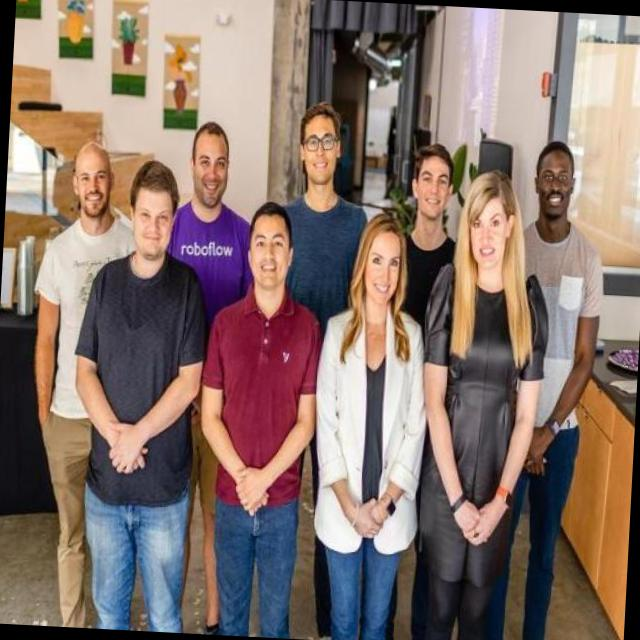bareface: (126, 165, 176, 262), (466, 179, 509, 269), (296, 110, 344, 190), (363, 217, 404, 310), (70, 139, 112, 227), (248, 210, 294, 288), (534, 140, 573, 228), (415, 142, 454, 229), (194, 126, 228, 208)
